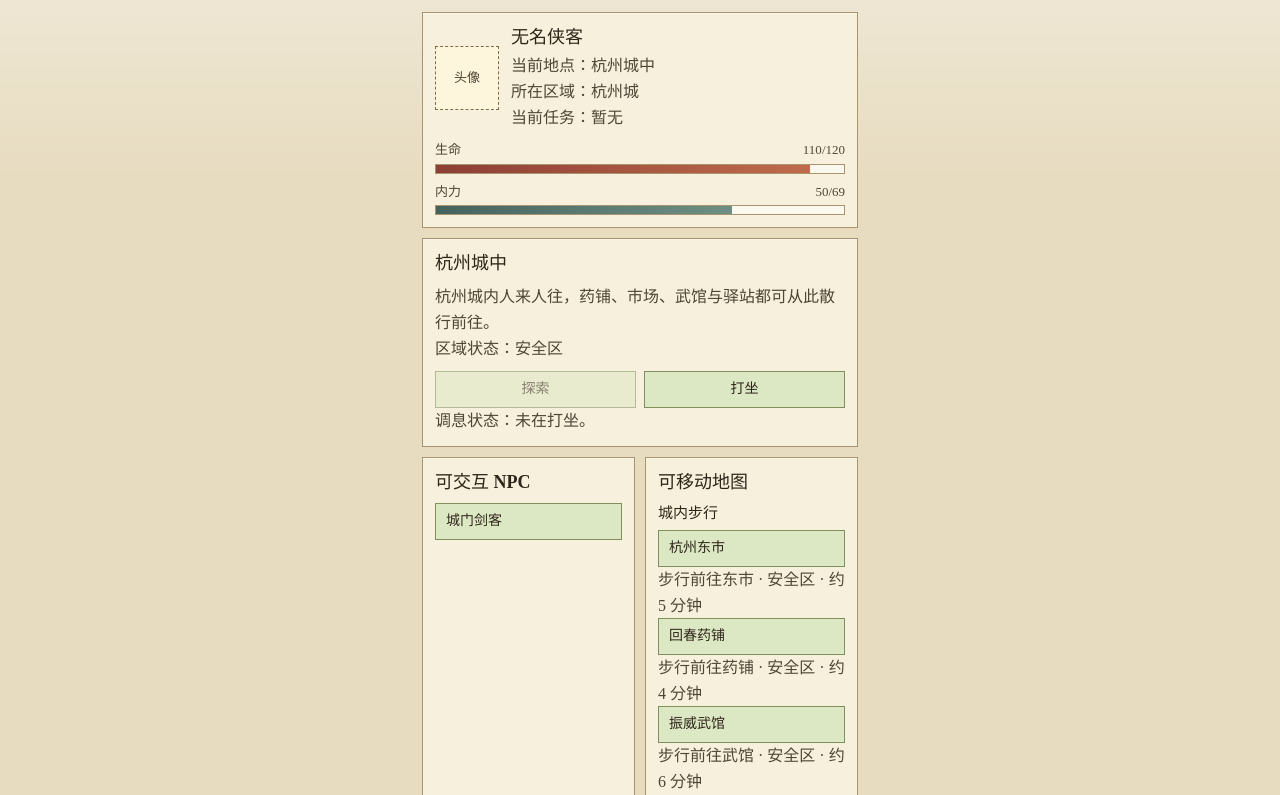
it: ScenePage › keeps meditation running after entering a scene subpage
Click the button "打坐": {"x": 744, "y": 390} [644,371,845,408]
(page scrolled)
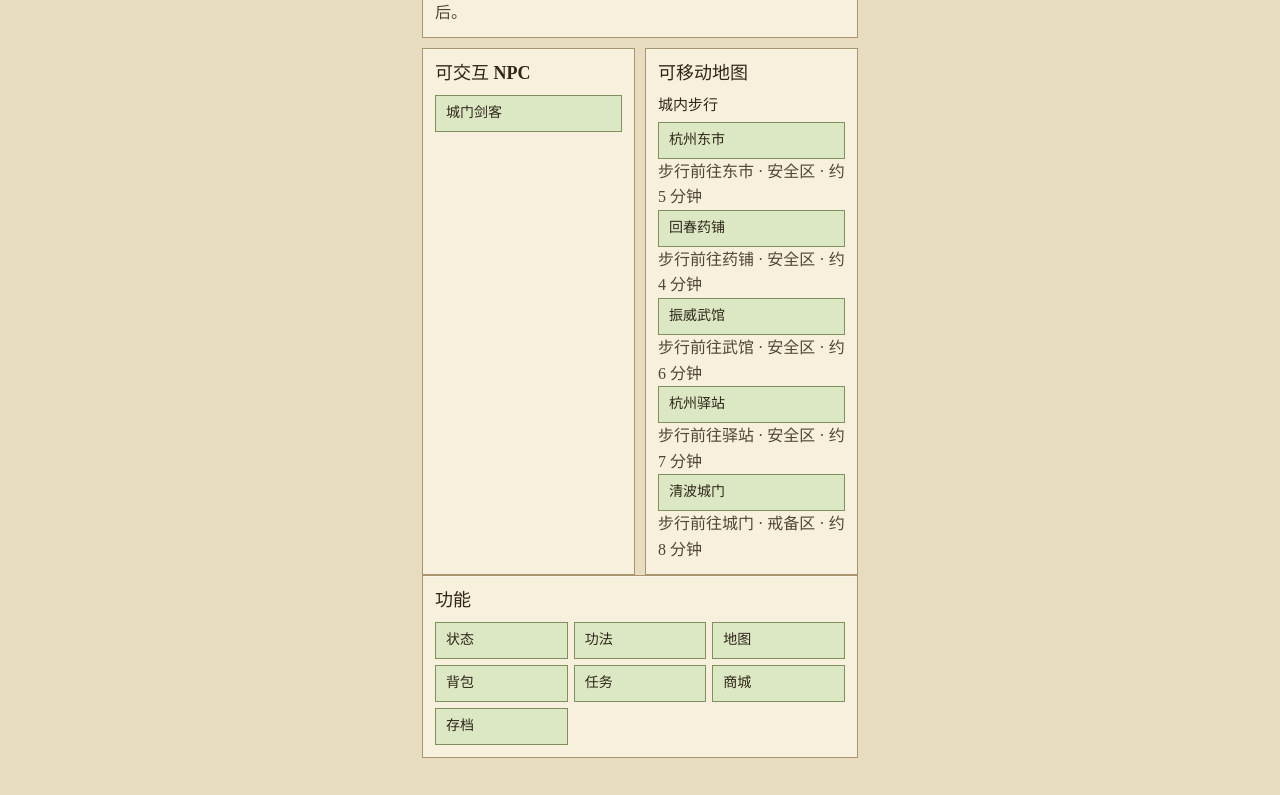
Click the button "状态": {"x": 501, "y": 640} [435,622,568,659]
Wait 10000 ms
(page scrolled)
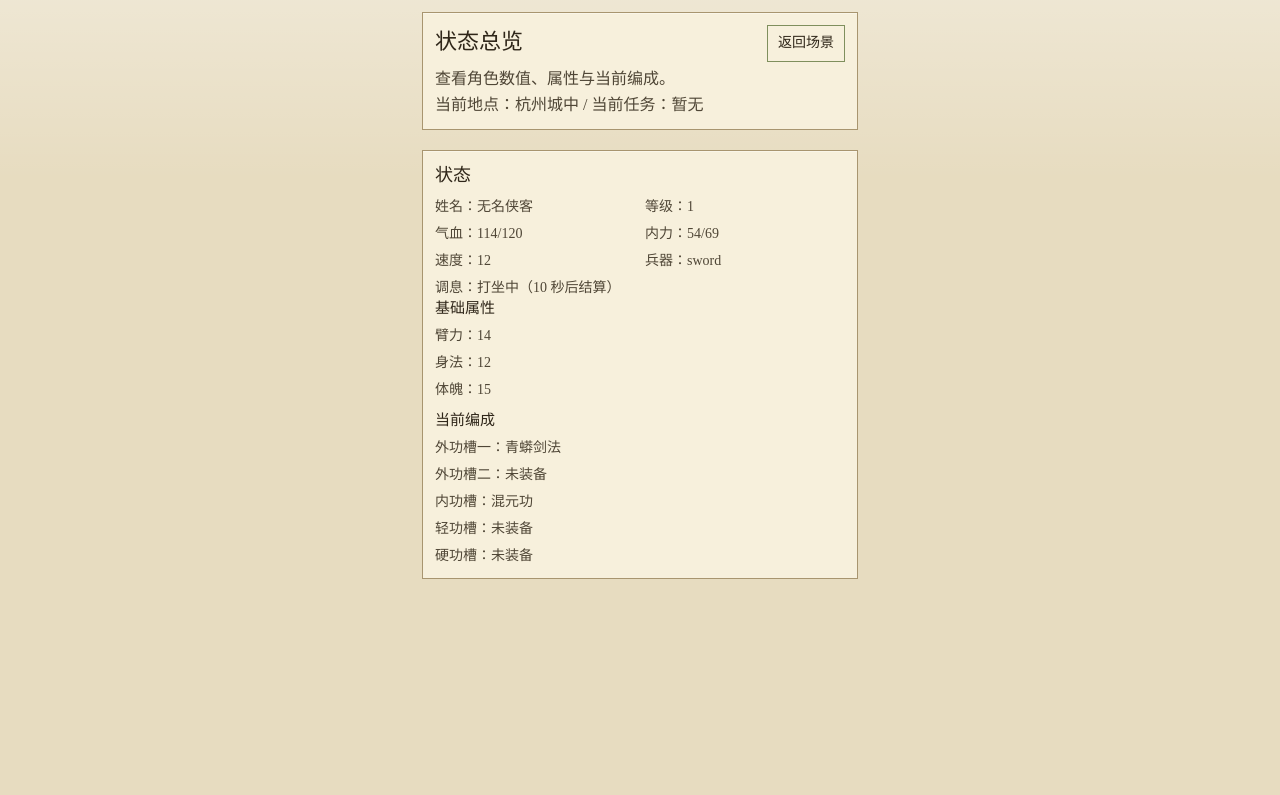
Check: the text "内力：54/69" is shown, box [645,226,719,241]
Check: the text "气血：114/120" is shown, box [435,226,522,241]
